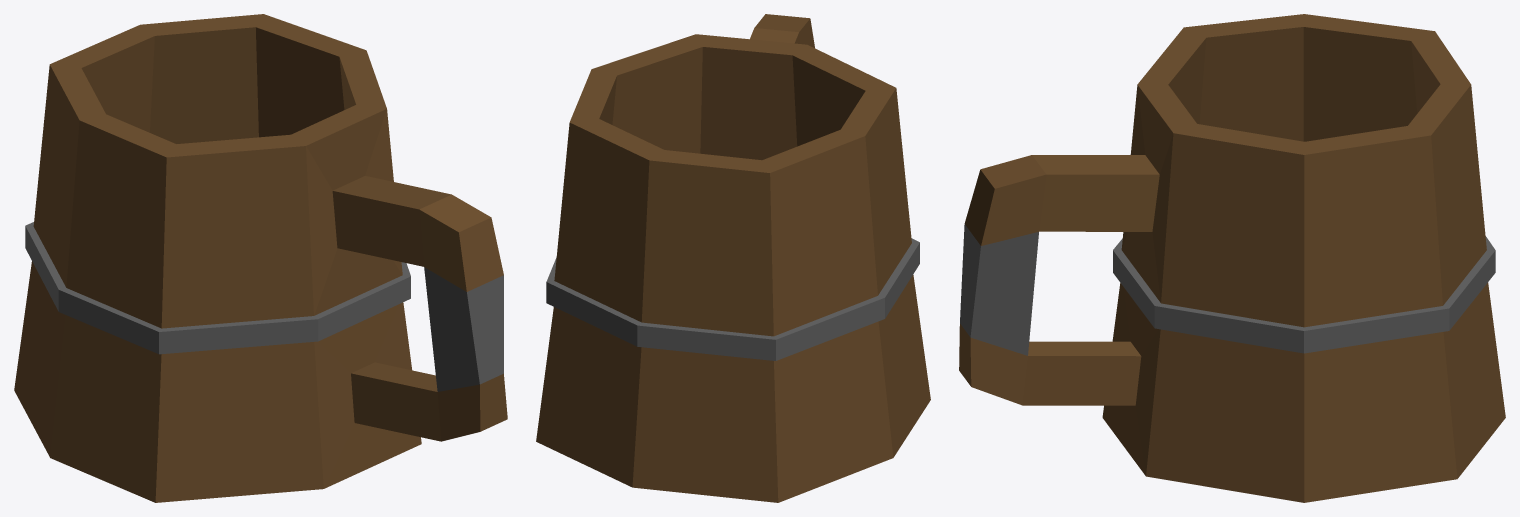
File: cub.fbx
3 views of the same model, side by side, from view 1: azimuth 30°, elevation 25°; view 2: azimuth 150°, elevation 25°; view 3: azimuth 270°, elevation 25° (orthographic). The views are drawn at different scales.
Parts seen in each view (by area): view 1: Krug; view 2: Krug; view 3: Krug.
Boxes of the visible parts, x1,y1,x2,y2 form: Krug: [14, 14, 507, 502]; Krug: [536, 14, 930, 502]; Krug: [959, 14, 1505, 502].
Size of the model in its own units: 11.77 by 10.72 by 15.96.
